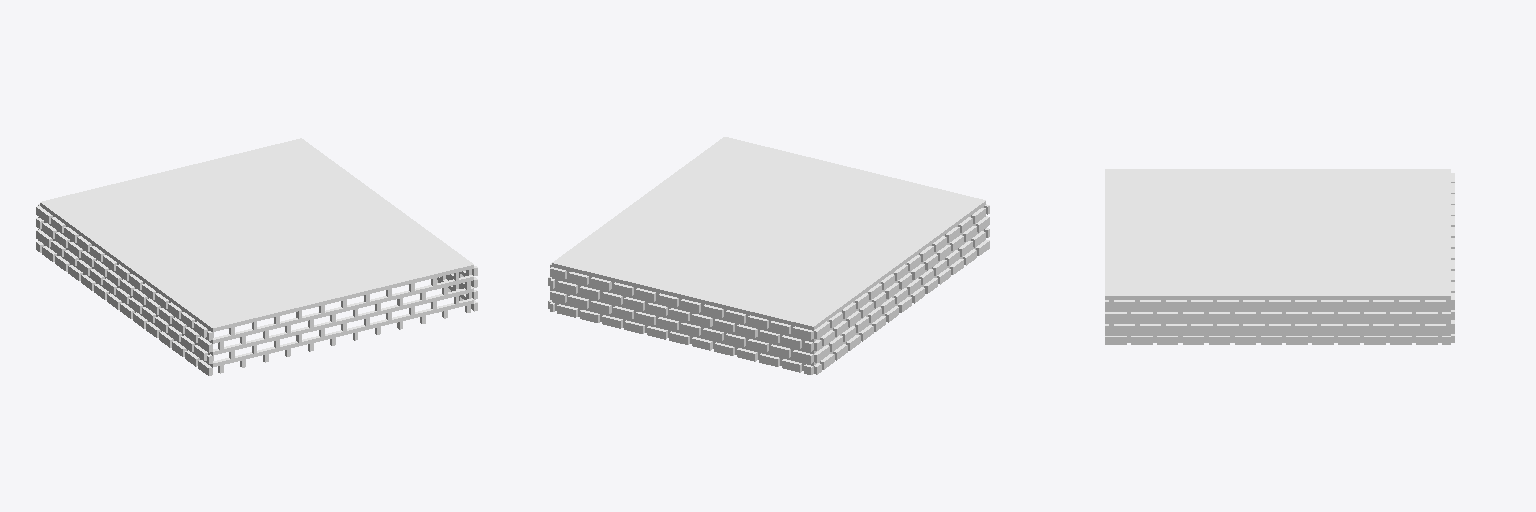
File: roof_2_rc_1.0.obj
3 views of the same model, side by side, from view 1: azimuth 30°, elevation 25°; view 2: azimuth 150°, elevation 25°; view 3: azimuth 270°, elevation 25° (orthographic).
Parts seen in each view (by area): view 1: object 1; view 2: object 1; view 3: object 1.
Part boxes in pixels (bbox=[...]): object 1: bbox=[36, 138, 477, 375]; object 1: bbox=[548, 137, 989, 374]; object 1: bbox=[1105, 169, 1454, 344].
Bounding box in the file's own units: 7.2 × 1.2 × 8.1.